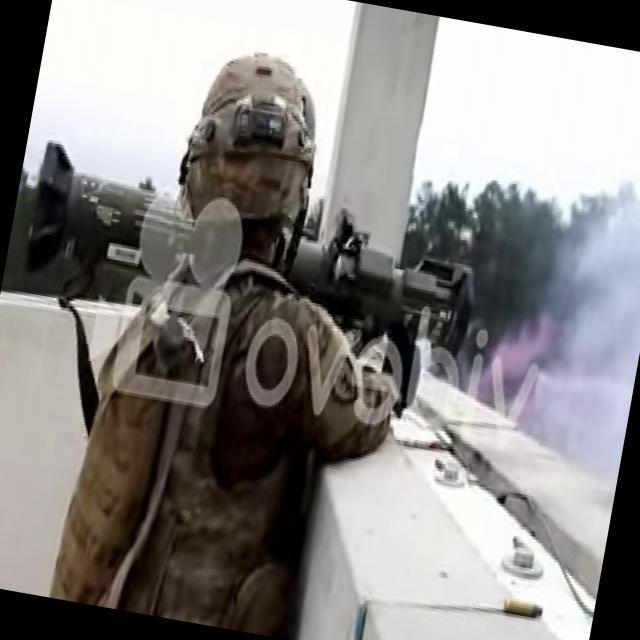rocket: (19, 135, 489, 360)
